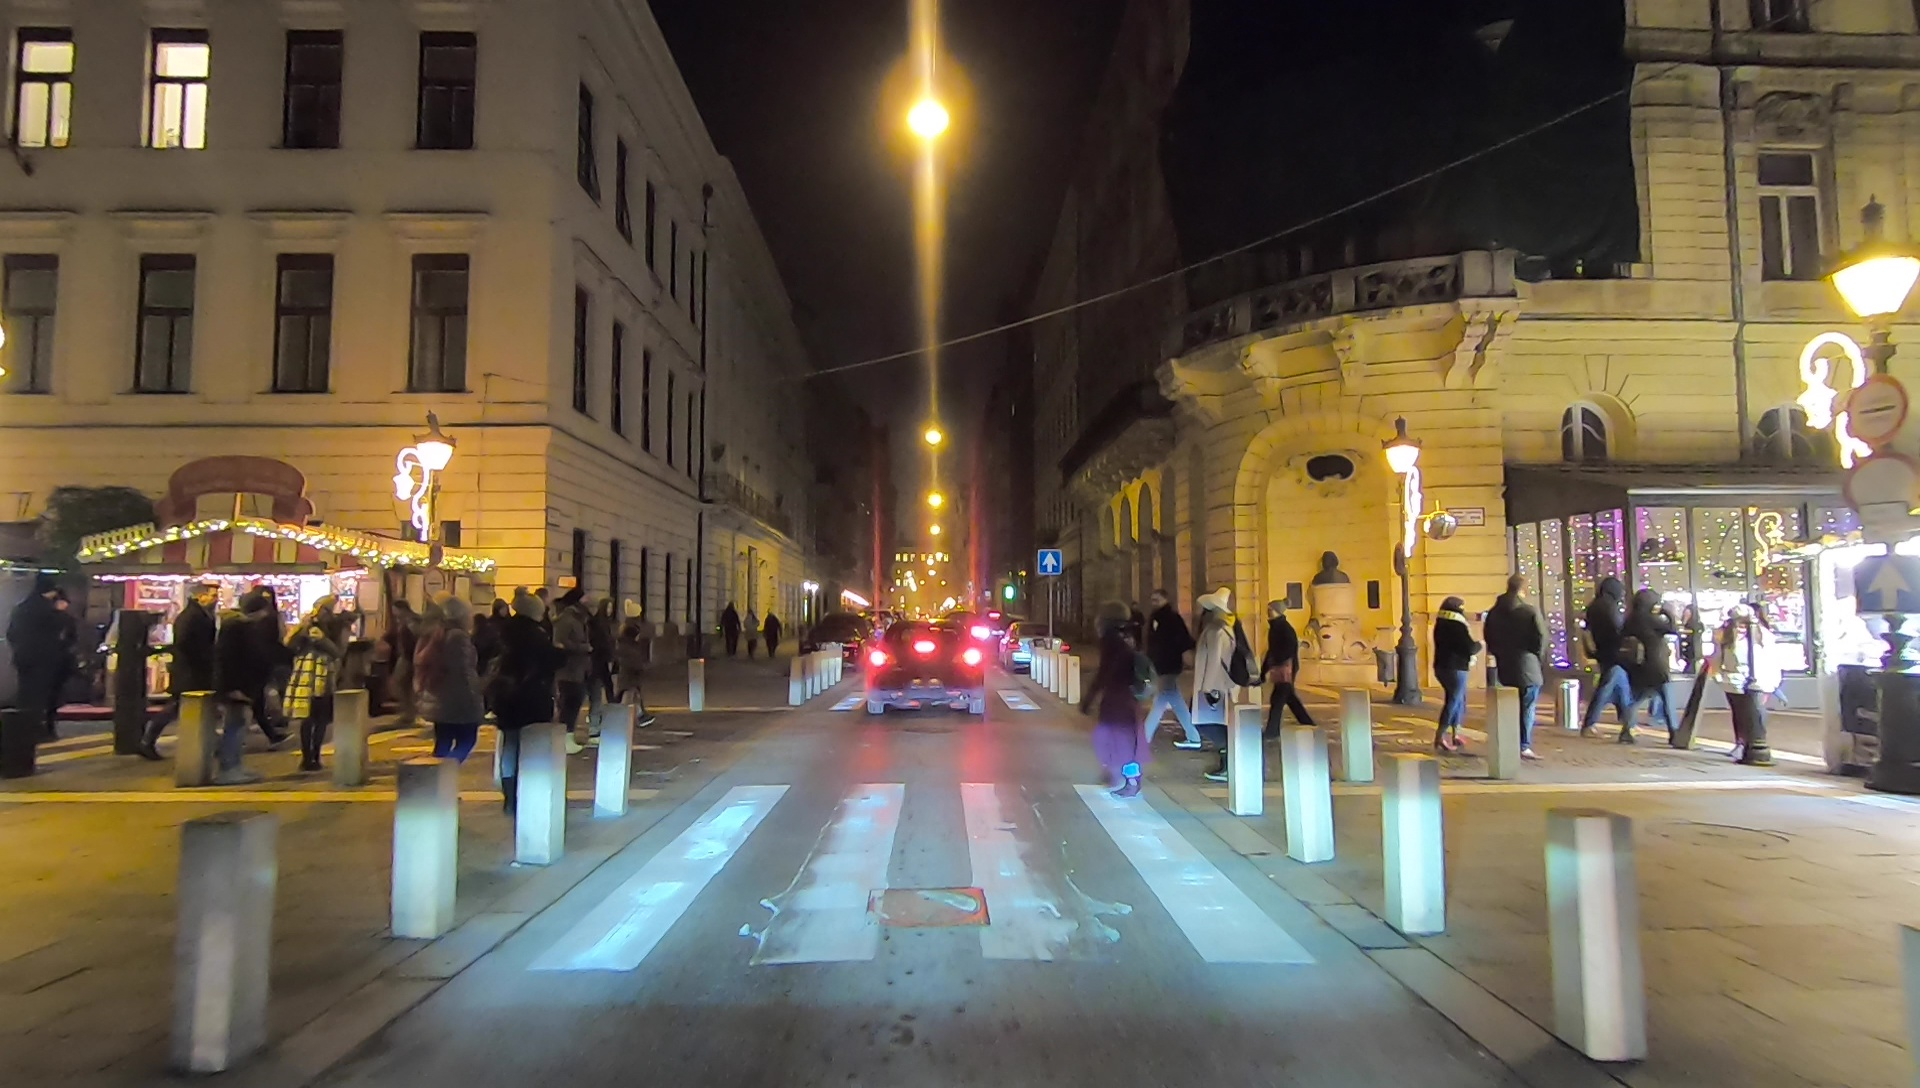person: (1084, 604, 1147, 799), (282, 595, 354, 763), (1480, 571, 1541, 765), (1715, 611, 1789, 769), (499, 589, 547, 817), (419, 608, 482, 782), (164, 587, 221, 771), (219, 597, 284, 760), (19, 578, 78, 747), (1256, 600, 1317, 760), (1141, 591, 1199, 761), (1582, 573, 1636, 749), (1193, 582, 1241, 756), (1630, 582, 1678, 756), (1425, 591, 1473, 758), (551, 587, 593, 754), (619, 606, 658, 745), (589, 600, 623, 732), (715, 599, 741, 663), (743, 602, 764, 671), (762, 613, 784, 661)
